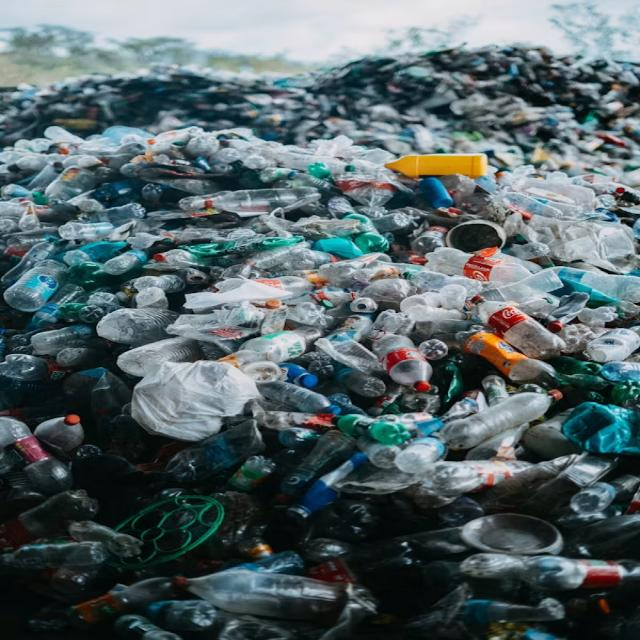Bottle: (181, 570, 344, 620), (440, 390, 562, 449), (461, 554, 639, 590), (520, 453, 615, 517), (166, 420, 264, 482), (475, 455, 578, 512), (472, 296, 565, 359), (0, 490, 98, 548), (0, 417, 72, 494), (456, 331, 555, 383), (69, 577, 175, 625), (290, 453, 367, 517), (281, 431, 354, 497), (179, 188, 319, 216), (426, 248, 531, 285), (422, 461, 531, 496), (315, 315, 380, 373), (374, 334, 431, 391), (118, 338, 202, 376), (5, 260, 67, 311), (96, 309, 179, 344), (240, 327, 322, 362), (0, 542, 108, 568), (558, 268, 639, 302), (463, 599, 565, 626), (27, 284, 87, 329), (0, 241, 58, 287), (69, 521, 142, 557), (260, 381, 340, 413), (144, 600, 228, 630), (386, 154, 487, 178), (0, 354, 70, 381), (31, 325, 93, 355), (34, 414, 84, 451), (394, 437, 445, 473), (585, 328, 639, 362), (44, 167, 98, 200), (334, 364, 386, 397), (546, 292, 588, 332), (114, 614, 181, 639), (229, 456, 276, 491), (62, 242, 126, 265), (357, 436, 401, 469), (569, 483, 616, 513), (438, 496, 484, 526), (251, 276, 313, 297), (92, 202, 146, 226), (104, 250, 148, 275), (410, 227, 447, 255), (420, 178, 454, 208), (59, 222, 115, 240), (132, 274, 185, 293), (279, 363, 318, 388), (261, 299, 287, 336), (578, 306, 618, 327), (600, 362, 639, 381), (440, 284, 468, 310), (135, 287, 168, 309)
